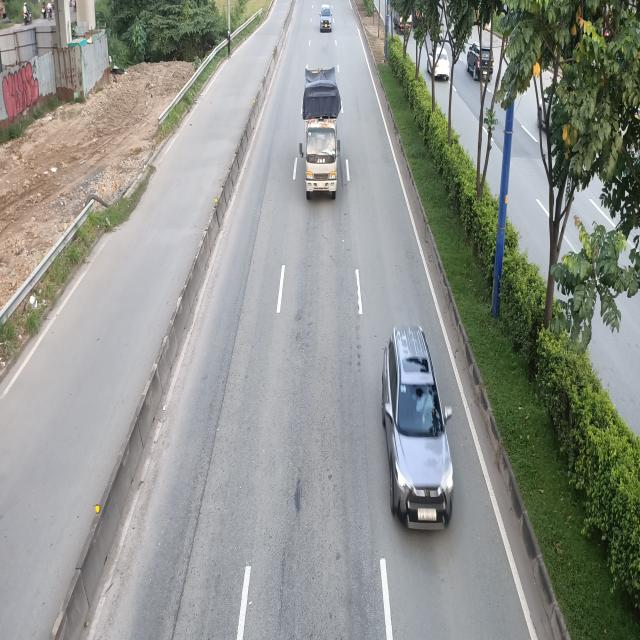car: (382, 325, 454, 532), (319, 3, 332, 31)
truck: (302, 67, 346, 202)
